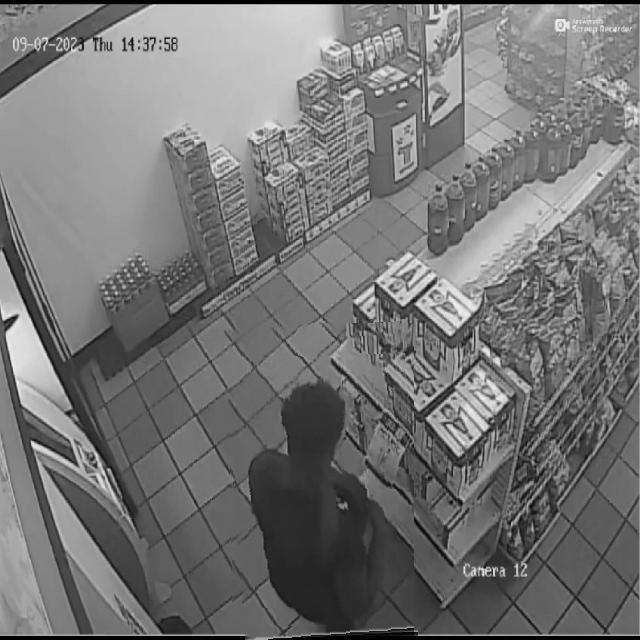Normal: (228, 323, 414, 640)
